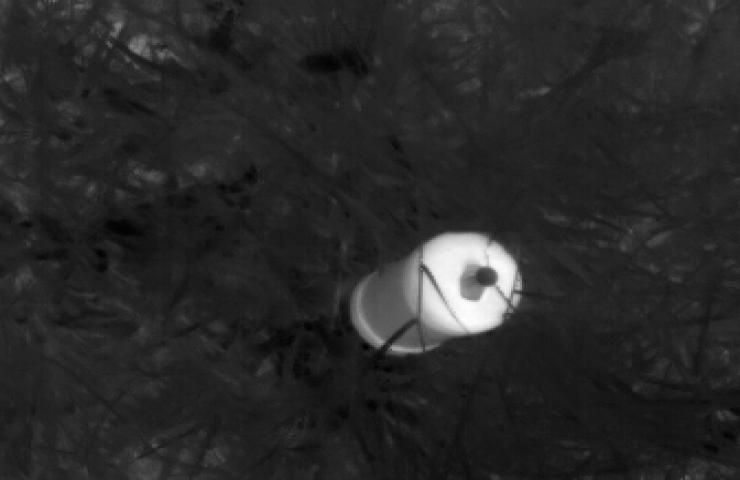landmines: (348, 224, 527, 366)
